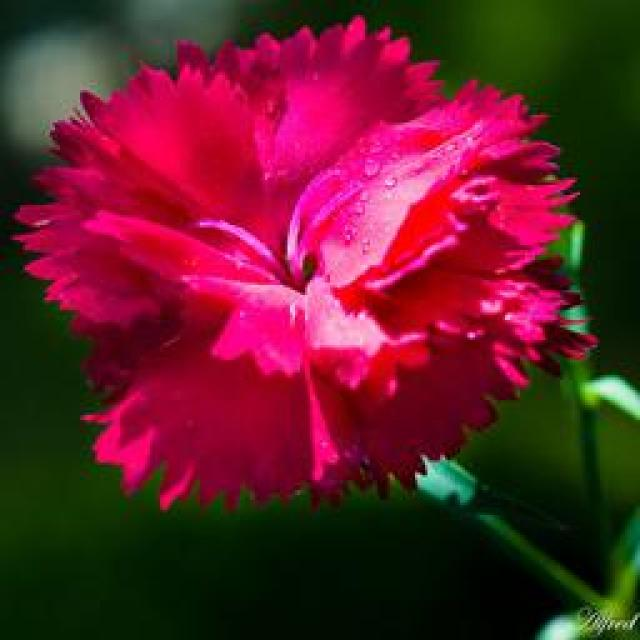carnation: (0, 2, 575, 520)
